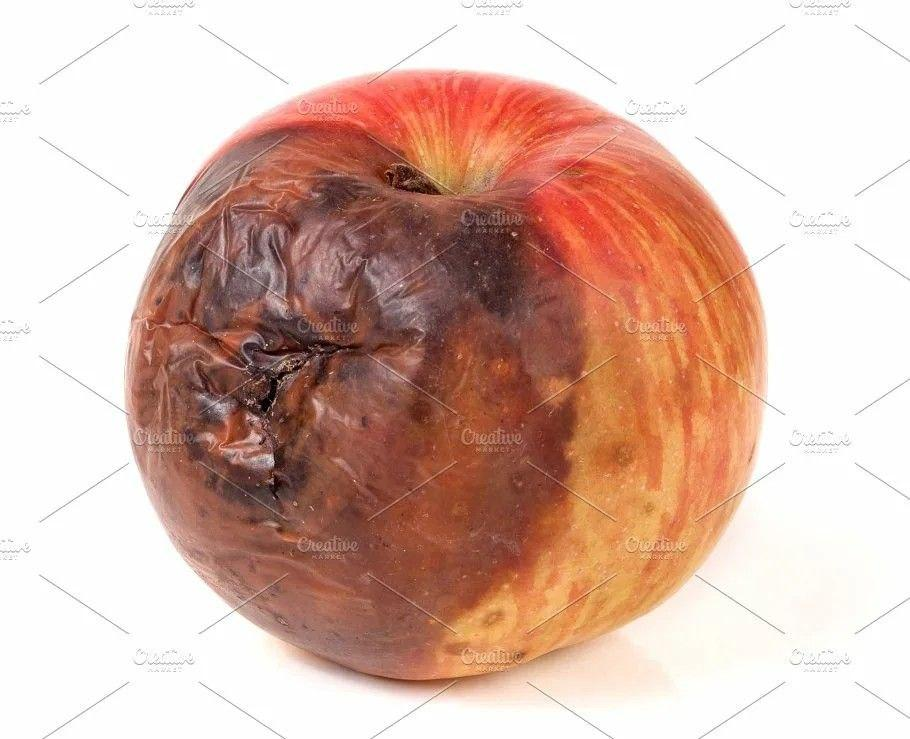Apple: (128, 72, 764, 680)
